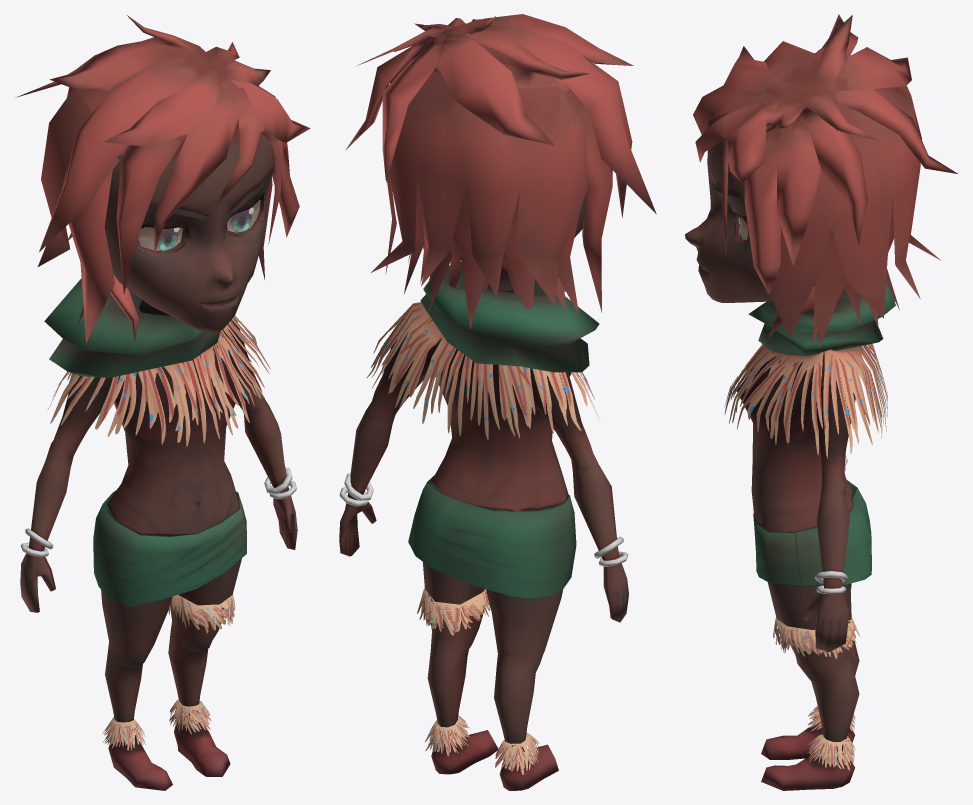
The model's file is Warrior.fbx.
3 views of the same model, side by side, from view 1: azimuth 30°, elevation 25°; view 2: azimuth 150°, elevation 25°; view 3: azimuth 270°, elevation 25° (orthographic). The views are drawn at different scales.
Visible parts, largest first — view 1: Amazon_Body, Amazon_Hair, Amazon_Cloak, Amazon_Legging, Amazon_Anklet_L, Amazon_Gold, Amazon_Anklet_R; view 2: Amazon_Body, Amazon_Hair, Amazon_Cloak, Amazon_Legging, Amazon_Anklet_R, Amazon_Anklet_L, Amazon_Gold; view 3: Amazon_Hair, Amazon_Body, Amazon_Cloak, Amazon_Legging, Amazon_Anklet_L, Amazon_Gold.
Part boxes in pixels (x1=…): Amazon_Body: x1=20, y1=119, x2=297, y2=790; Amazon_Hair: x1=15, y1=15, x2=310, y2=343; Amazon_Cloak: x1=48, y1=316, x2=270, y2=446; Amazon_Legging: x1=168, y1=594, x2=235, y2=633; Amazon_Anklet_L: x1=169, y1=700, x2=211, y2=734; Amazon_Gold: x1=20, y1=467, x2=296, y2=557; Amazon_Anklet_R: x1=102, y1=717, x2=145, y2=750; Amazon_Body: x1=339, y1=191, x2=628, y2=790; Amazon_Hair: x1=346, y1=14, x2=656, y2=329; Amazon_Cloak: x1=366, y1=302, x2=599, y2=439; Amazon_Legging: x1=417, y1=588, x2=490, y2=635; Amazon_Anklet_R: x1=495, y1=733, x2=539, y2=774; Amazon_Anklet_L: x1=425, y1=715, x2=469, y2=756; Amazon_Gold: x1=339, y1=473, x2=628, y2=566; Amazon_Hair: x1=693, y1=14, x2=957, y2=348; Amazon_Body: x1=685, y1=112, x2=895, y2=790; Amazon_Cloak: x1=724, y1=343, x2=887, y2=458; Amazon_Legging: x1=773, y1=617, x2=859, y2=658; Amazon_Anklet_L: x1=807, y1=734, x2=855, y2=770; Amazon_Gold: x1=814, y1=456, x2=847, y2=594.
Bounding box in the file's own units: 82.3 × 209 × 69.85.
Materials: 2 (1 with a texture image).
